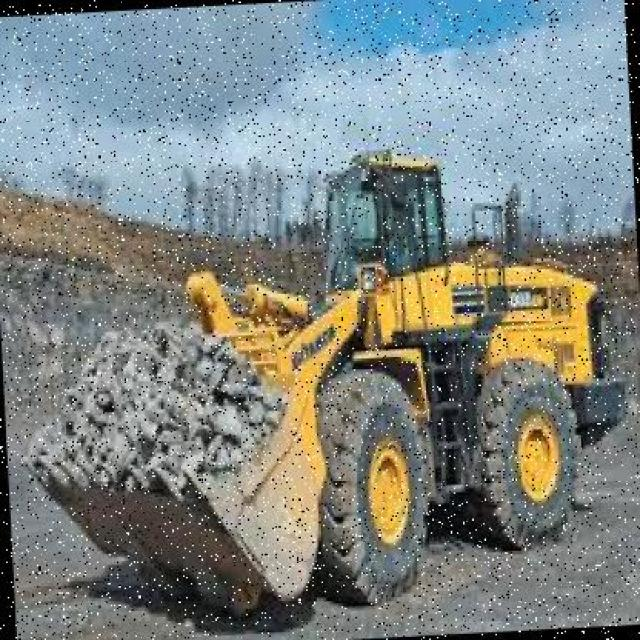buldozerpayloadergrader: (7, 131, 636, 624)
